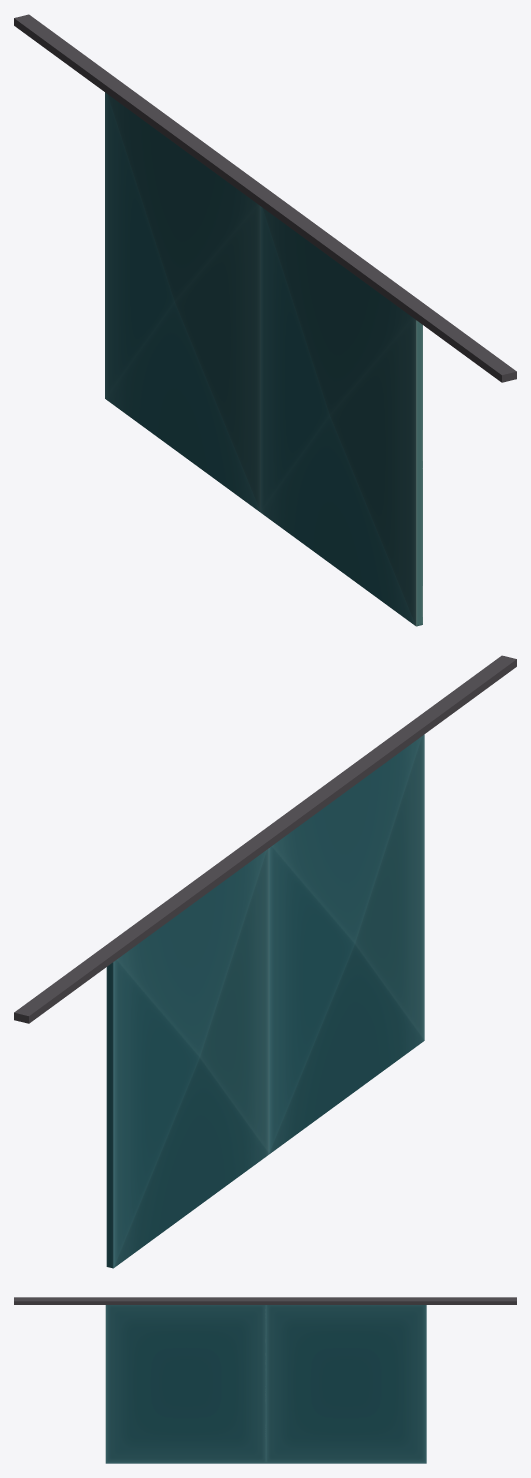
Rendered from Nortica Door Closed.fbx.
3 renders of one model, top to bottom at view 1: azimuth 30°, elevation 25°; view 2: azimuth 150°, elevation 25°; view 3: azimuth 270°, elevation 25°, orthographic. The views are drawn at different scales.
Visible parts, largest first — view 1: Nortica Door Closed; view 2: Nortica Door Closed; view 3: Nortica Door Closed.
Boxes of the visible parts, left/top/right/bottom form: Nortica Door Closed: left=14, top=14, right=516, bottom=626; Nortica Door Closed: left=14, top=655, right=516, bottom=1268; Nortica Door Closed: left=14, top=1297, right=516, bottom=1463.
Bounding box in the file's own units: 27.9 × 420 × 1171.
Materials: 2 (1 with a texture image).
